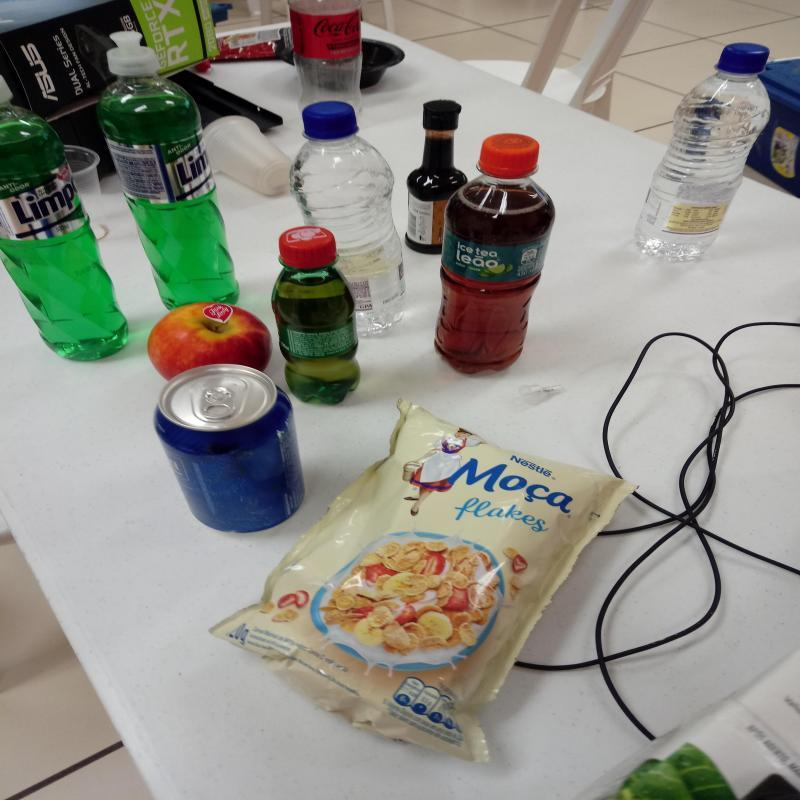Apple: (149, 302, 274, 383)
Cleaner: (101, 32, 242, 316), (0, 103, 135, 362)
CornFlakes: (208, 399, 638, 765)
EnglishSauce: (405, 101, 468, 258)
Guarana: (275, 227, 361, 406)
IceTea: (433, 135, 556, 372)
Tonic: (161, 369, 303, 534)
Water: (631, 43, 770, 266), (290, 101, 409, 336)
